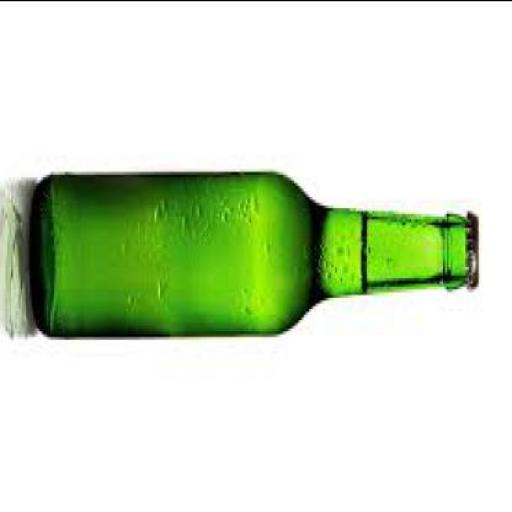glass: (30, 176, 471, 336)
metal: (472, 219, 482, 291)
